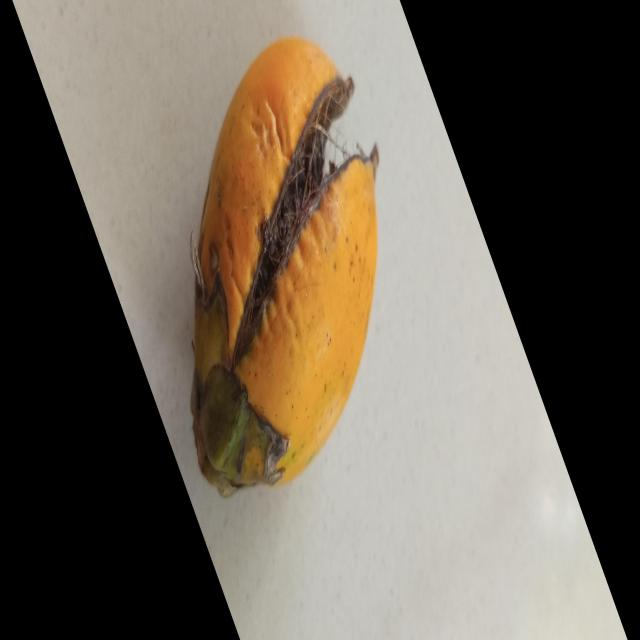damaged: (191, 38, 379, 497)
